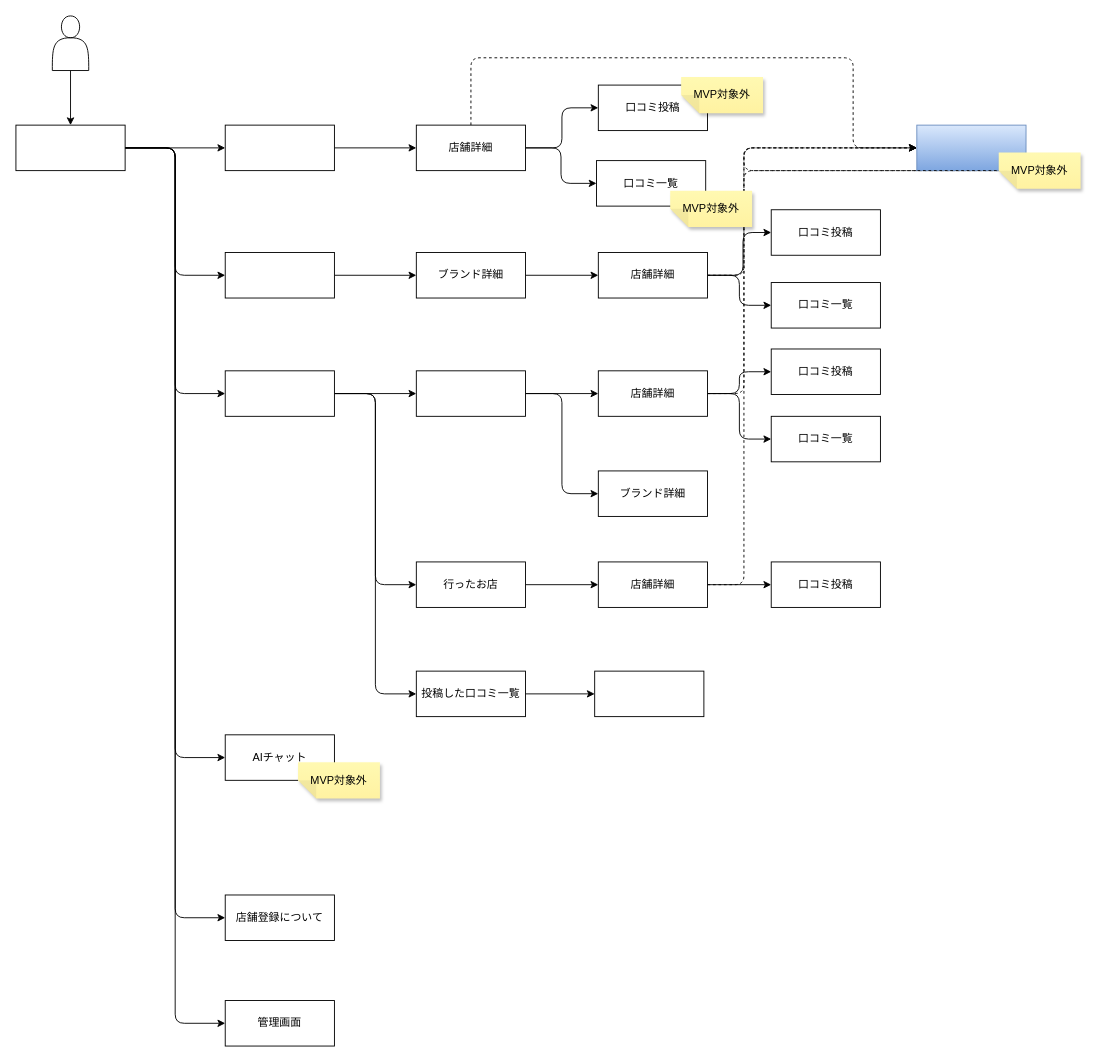
The diagram is 1104 pixels wide and 1062 high, and some of its shapes have lost their labels. Here are the shapes that lost their labels. From the top down, the centre of each, then its label:
At point (70, 147): "TOP".
At point (279, 147): "店舗一覧".
At point (971, 147): "SNSシェア".
At point (279, 275): "ブランド一覧".
At point (279, 393): "マイページ".
At point (470, 393): "お気に入り".
At point (649, 693): "口コミ詳細".
